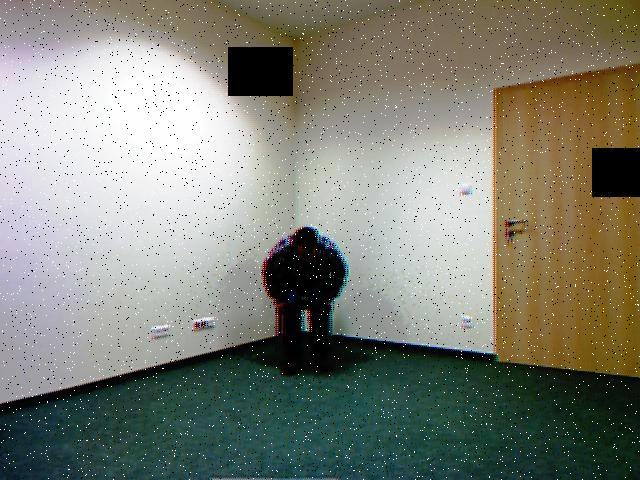bending: (252, 216, 364, 382)
